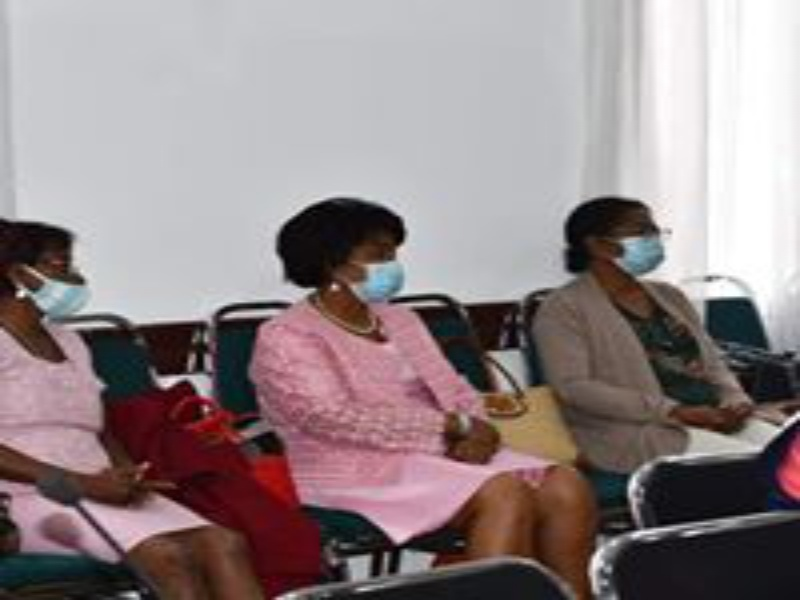ManaoArotava: (309, 193, 435, 324), (570, 190, 682, 296), (16, 214, 101, 326)
